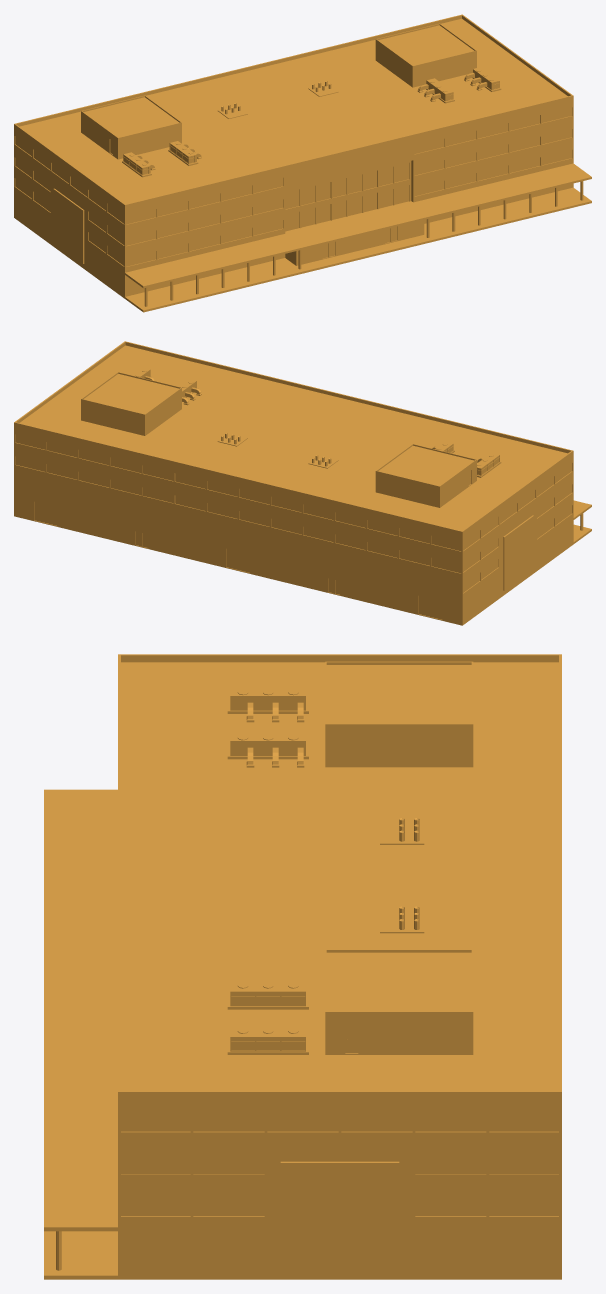
Rendered from airport-terminal.fbx.
3 renders of one model, top to bottom at view 1: azimuth 30°, elevation 25°; view 2: azimuth 150°, elevation 25°; view 3: azimuth 270°, elevation 25°, orthographic. The views are drawn at different scales.
Parts seen in each view (by area): view 1: airport-terminal; view 2: airport-terminal; view 3: airport-terminal.
Part boxes in pixels (<box>): airport-terminal: <box>14,14,591,312</box>; airport-terminal: <box>14,341,591,625</box>; airport-terminal: <box>44,654,561,1279</box>.
Size of the model in its own units: 70.4 by 16.7 by 35.
